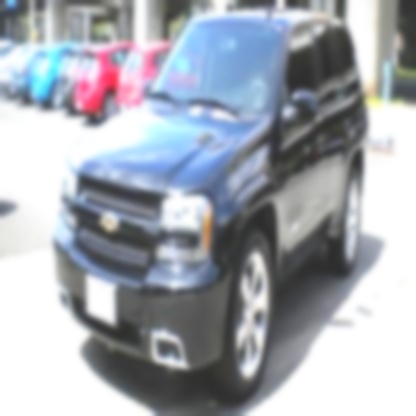Vehicle: (48, 4, 374, 406)
